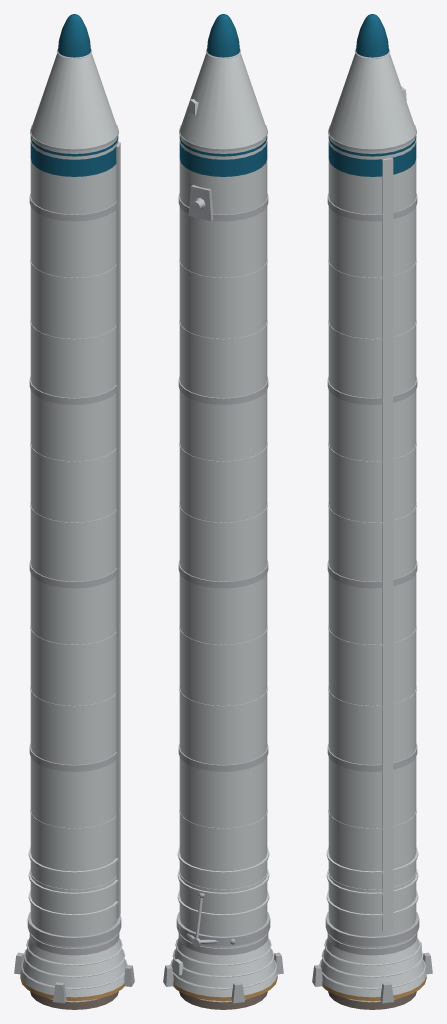
Rendered from booster_heavy_solid.glb.
3 views of the same model, side by side, from view 1: azimuth 30°, elevation 25°; view 2: azimuth 150°, elevation 25°; view 3: azimuth 330°, elevation 25° (orthographic).
Visible parts, largest first — view 1: booster_heavy_solid_mesh; view 2: booster_heavy_solid_mesh; view 3: booster_heavy_solid_mesh.
Part boxes in pixels (<box>): booster_heavy_solid_mesh: <box>14,14,134,1009</box>; booster_heavy_solid_mesh: <box>163,14,283,1009</box>; booster_heavy_solid_mesh: <box>312,14,432,1009</box>.
Bounding box in the file's own units: 4.58 × 45.5 × 4.64.
